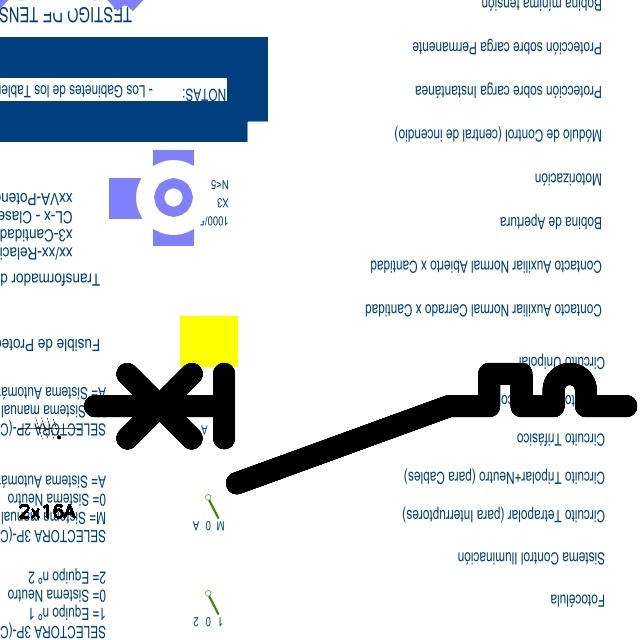interruptor_termomagnetico: (81, 360, 640, 496)
